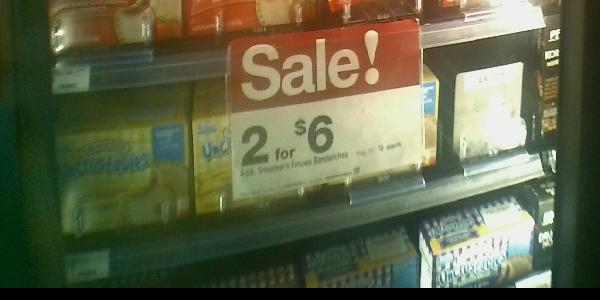icecream: (53, 119, 193, 252), (193, 96, 325, 226), (325, 78, 436, 184)
